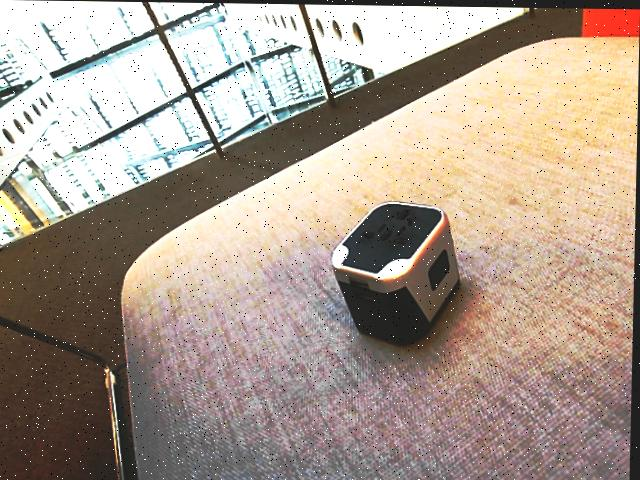adapter: (331, 198, 462, 345)
